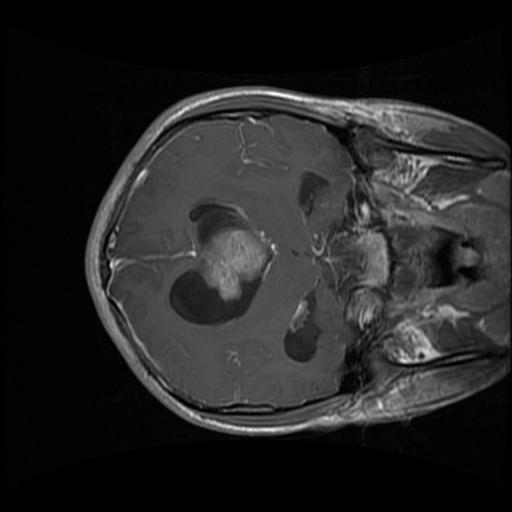glioma: (166, 199, 271, 326)
